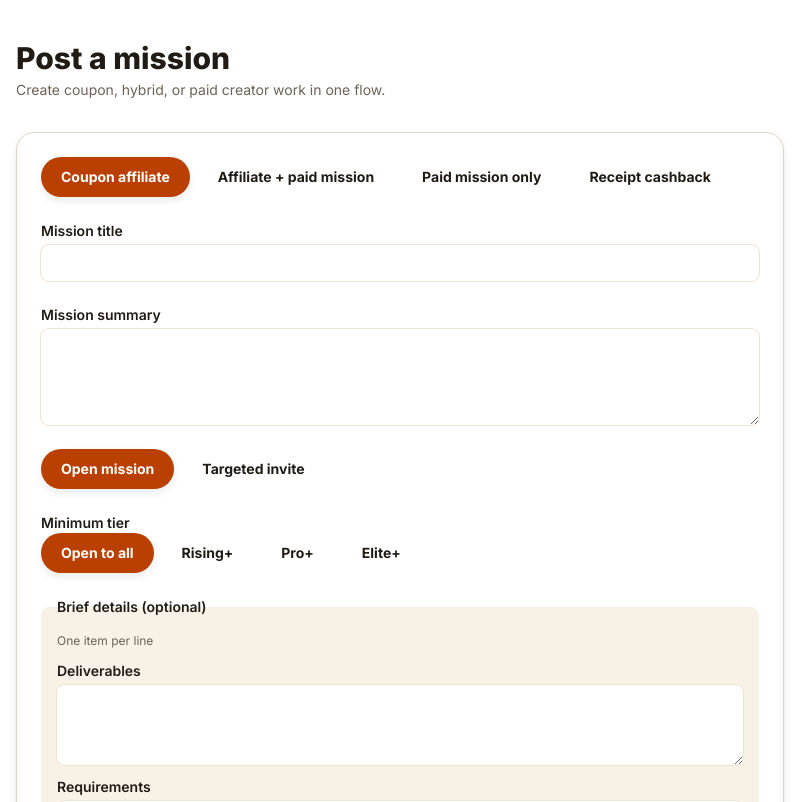
Test: MissionPostWizard › blocks invalid draft payloads
Type "Test mission" into the field labelled "Mission title".
click(400, 263); type("Test mission")  # box [41,245,759,281]
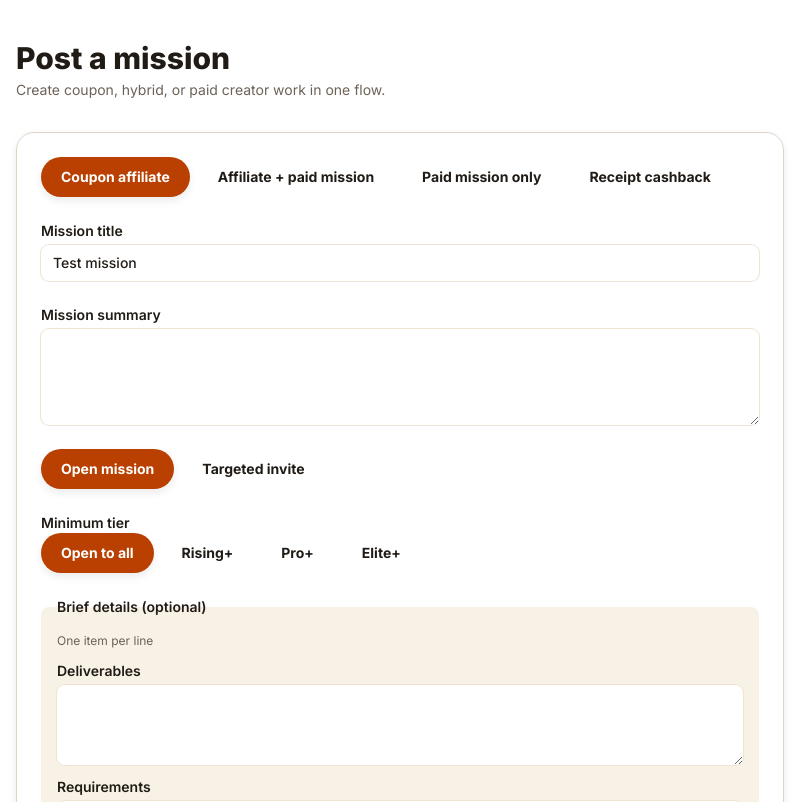
Type "Mission summary" into the text box labelled "Mission summary".
click(400, 377); type("Mission summary")  # box [41,329,759,425]
(page scrolled)
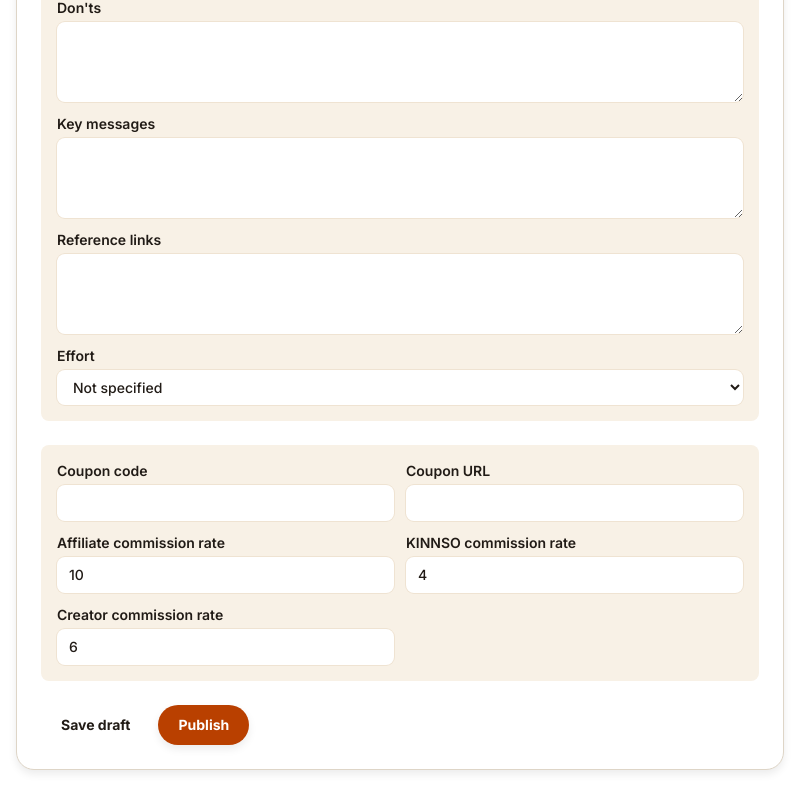
Click the button "Save draft".
click(96, 725)  # box [41,705,150,745]
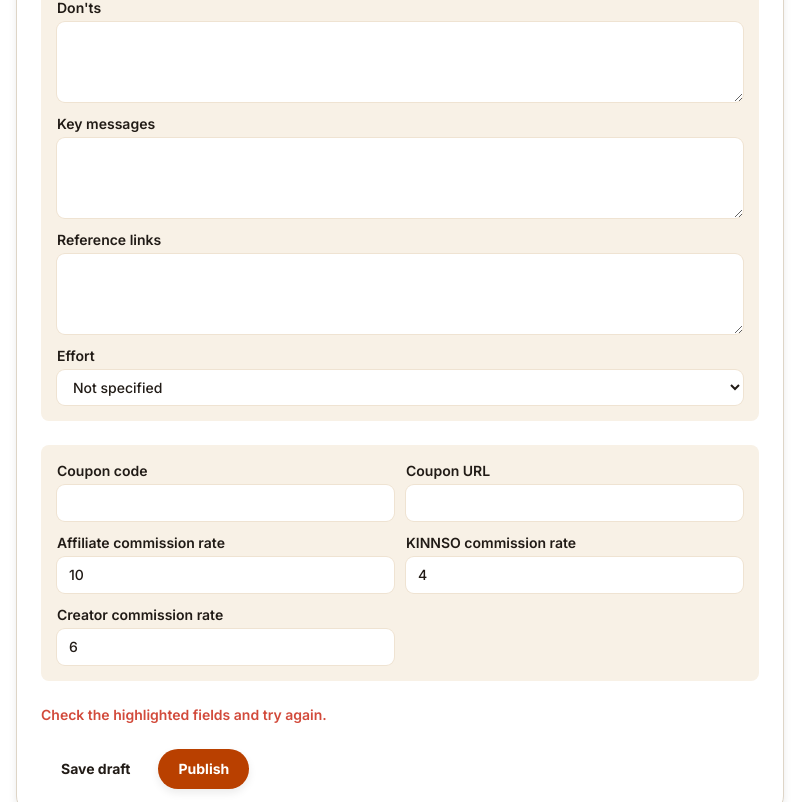
Check: the message reads "Check the highlighted fields and try again.", box [41,706,327,723]
